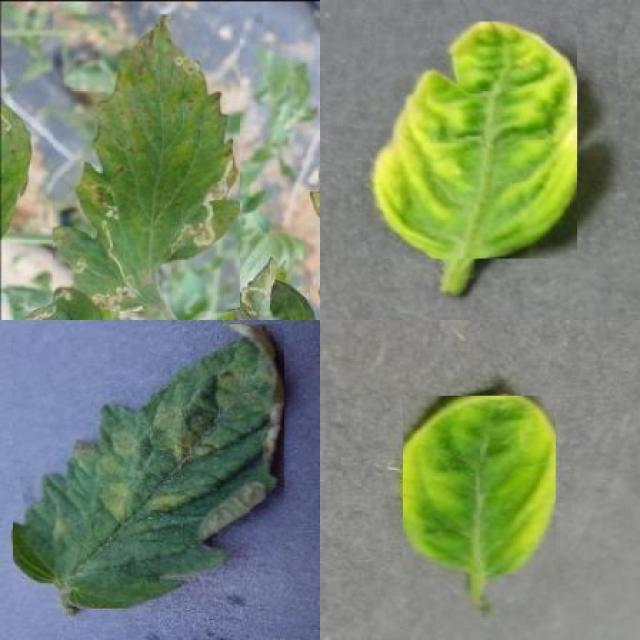Leaf Miner: (53, 14, 240, 312)
Leaf Mold: (14, 324, 285, 609)
Yellow Leaf Curl Virus: (371, 22, 578, 258), (403, 396, 556, 574)
